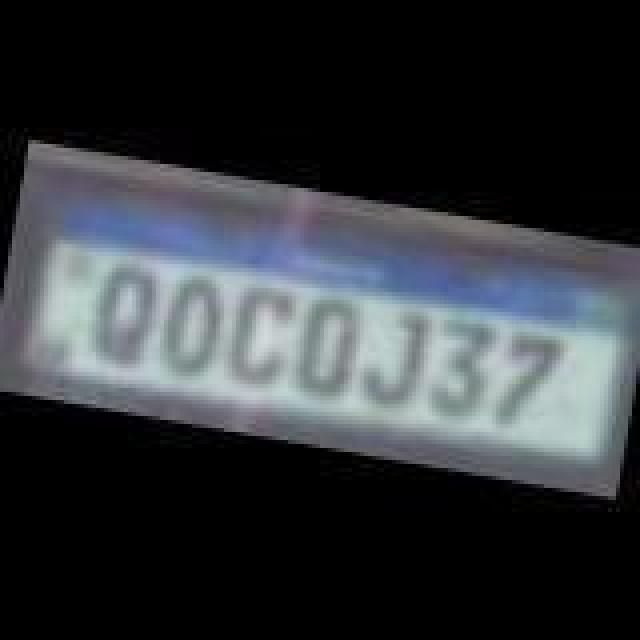3: (420, 312, 492, 424)
7: (492, 324, 564, 428)
C: (226, 276, 294, 380)
D: (294, 292, 362, 396)
J: (352, 306, 432, 414)
O: (150, 264, 234, 384)
Q: (86, 256, 154, 368)
